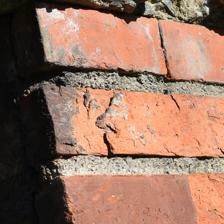Crack: (47, 45, 83, 114)
